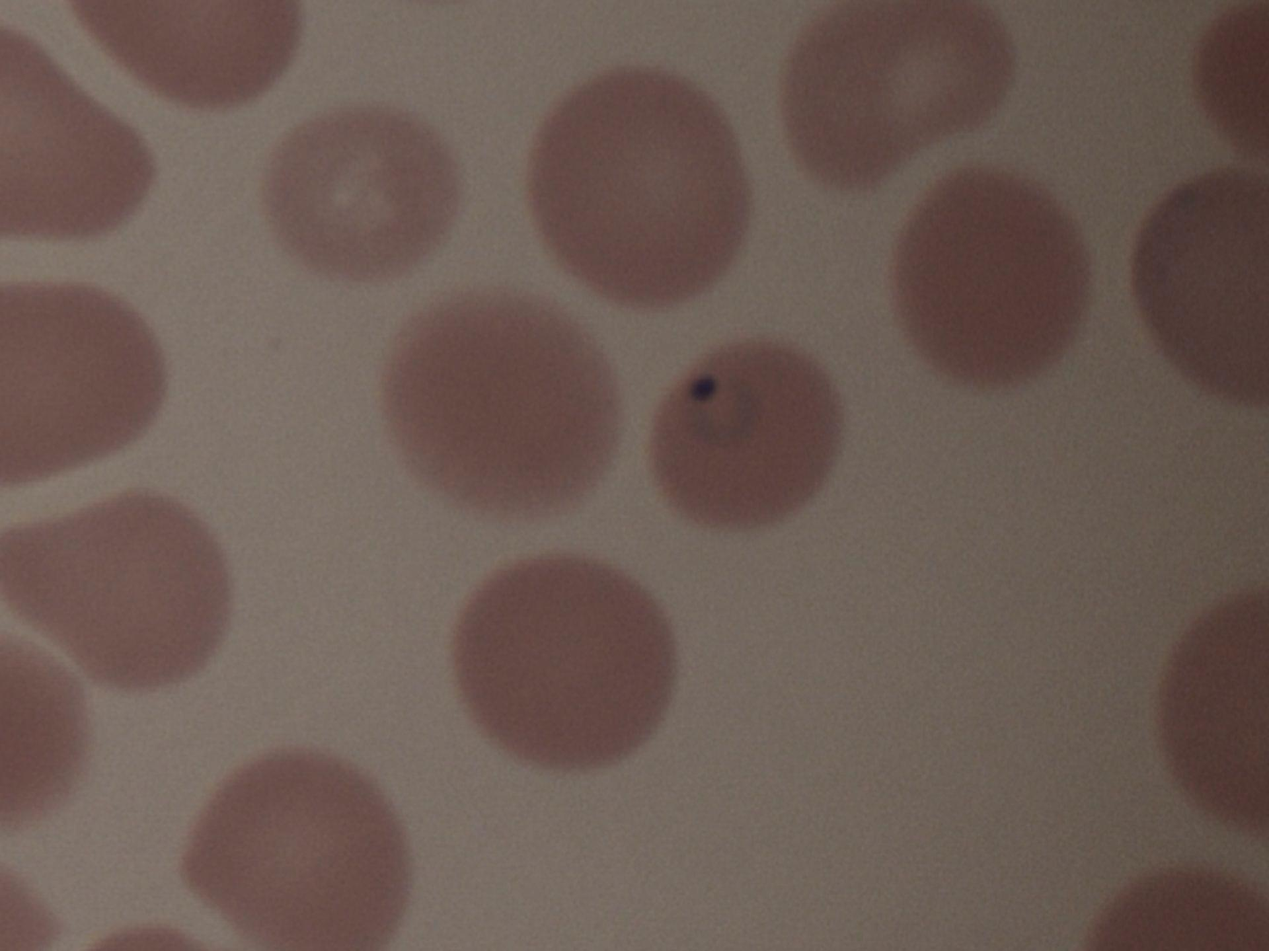Infected: (649, 330, 844, 527)
Uninfected: (530, 65, 750, 309), (385, 289, 623, 504), (451, 554, 680, 769), (0, 491, 232, 695), (183, 747, 414, 951), (889, 164, 1091, 387), (782, 0, 1008, 194), (0, 276, 167, 494), (0, 25, 163, 241), (261, 101, 459, 277), (1129, 159, 1269, 399), (69, 0, 305, 108)
